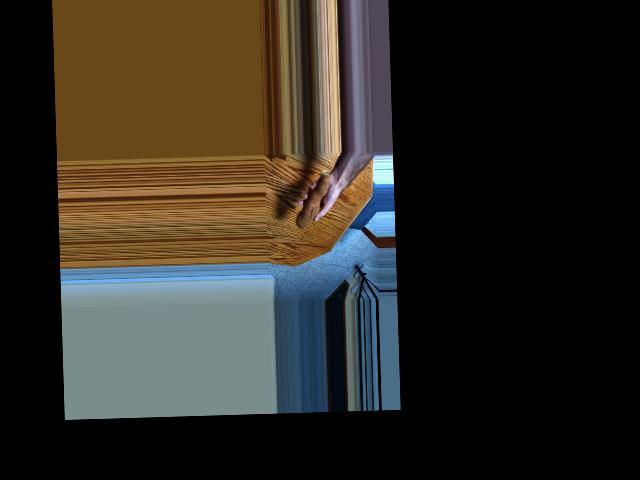sweet_potato: (294, 168, 336, 231)
